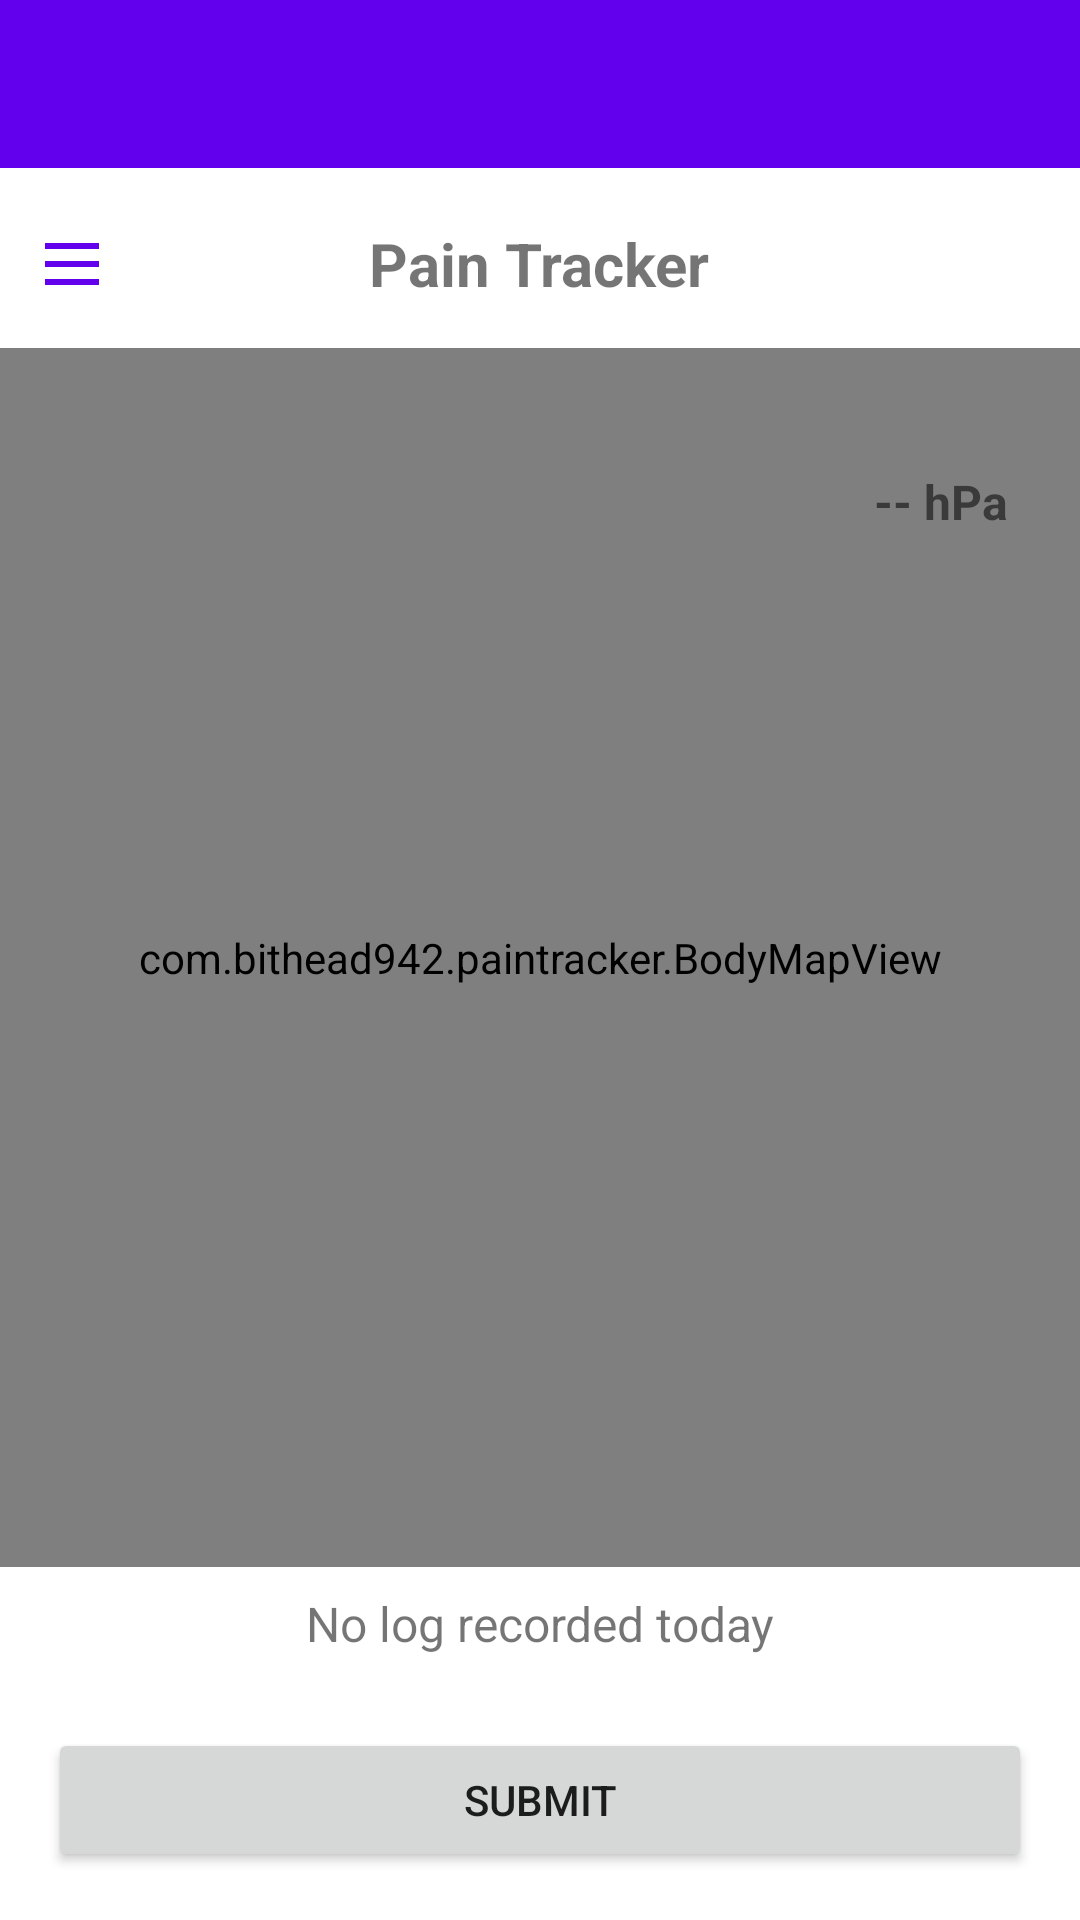

Where icons sit on this 1080 × 1920 app screen, as detection(x1, y1, x2, y2):
Menu: detection(45, 243, 99, 285)
